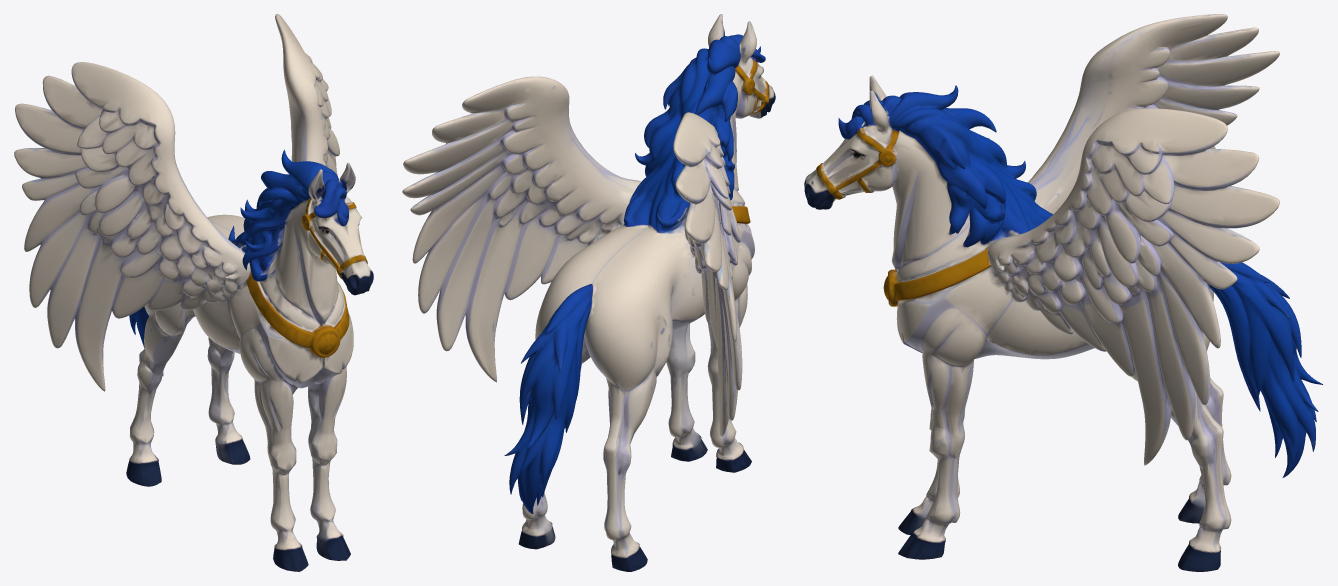
Rendered from raw.glb.
3 renders of one model, left to right at view 1: azimuth 30°, elevation 25°; view 2: azimuth 150°, elevation 25°; view 3: azimuth 270°, elevation 25°, orthographic. The views are drawn at different scales.
Visible parts, largest first — view 1: material; view 2: material; view 3: material.
Boxes of the visible parts, bbox=[...] form: material: bbox=[14, 14, 373, 571]; material: bbox=[402, 14, 775, 571]; material: bbox=[804, 14, 1322, 571].
Bounding box in the file's own units: 0.7089 × 0.9284 × 0.9132.
Materials: 1 (1 with a texture image).
